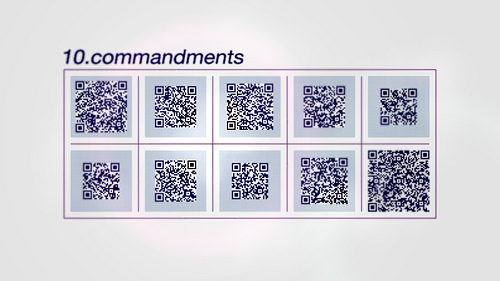QR-CODE: (368, 150, 429, 212), (75, 81, 126, 132), (227, 83, 273, 129), (301, 158, 347, 204), (155, 160, 196, 201), (155, 86, 196, 127), (303, 86, 344, 127), (82, 162, 119, 199), (232, 163, 268, 199), (380, 88, 416, 124)
